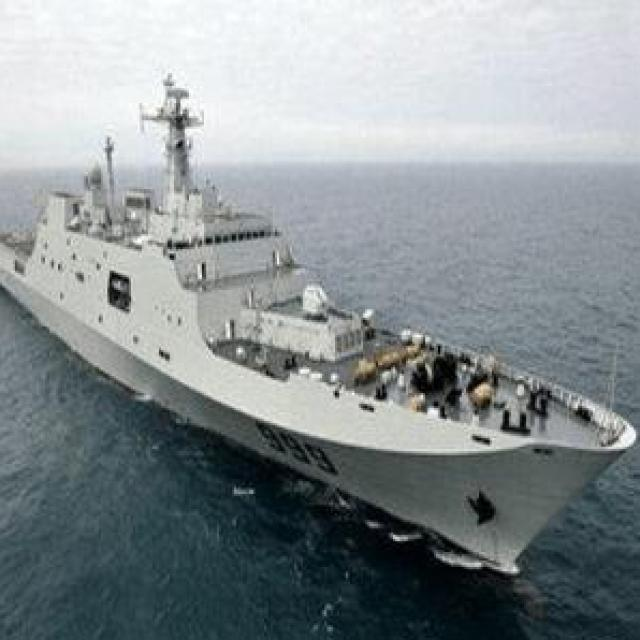navalvessels: (0, 60, 634, 576)
